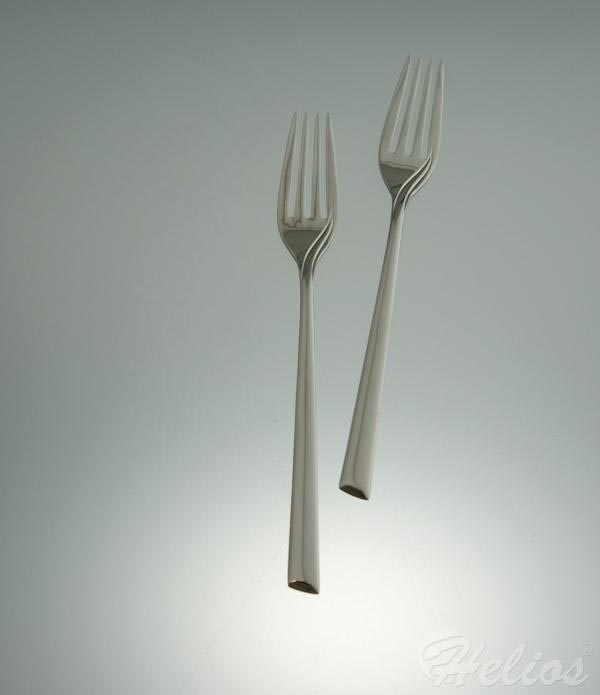Widelec: (274, 104, 342, 266), (374, 53, 446, 203)
